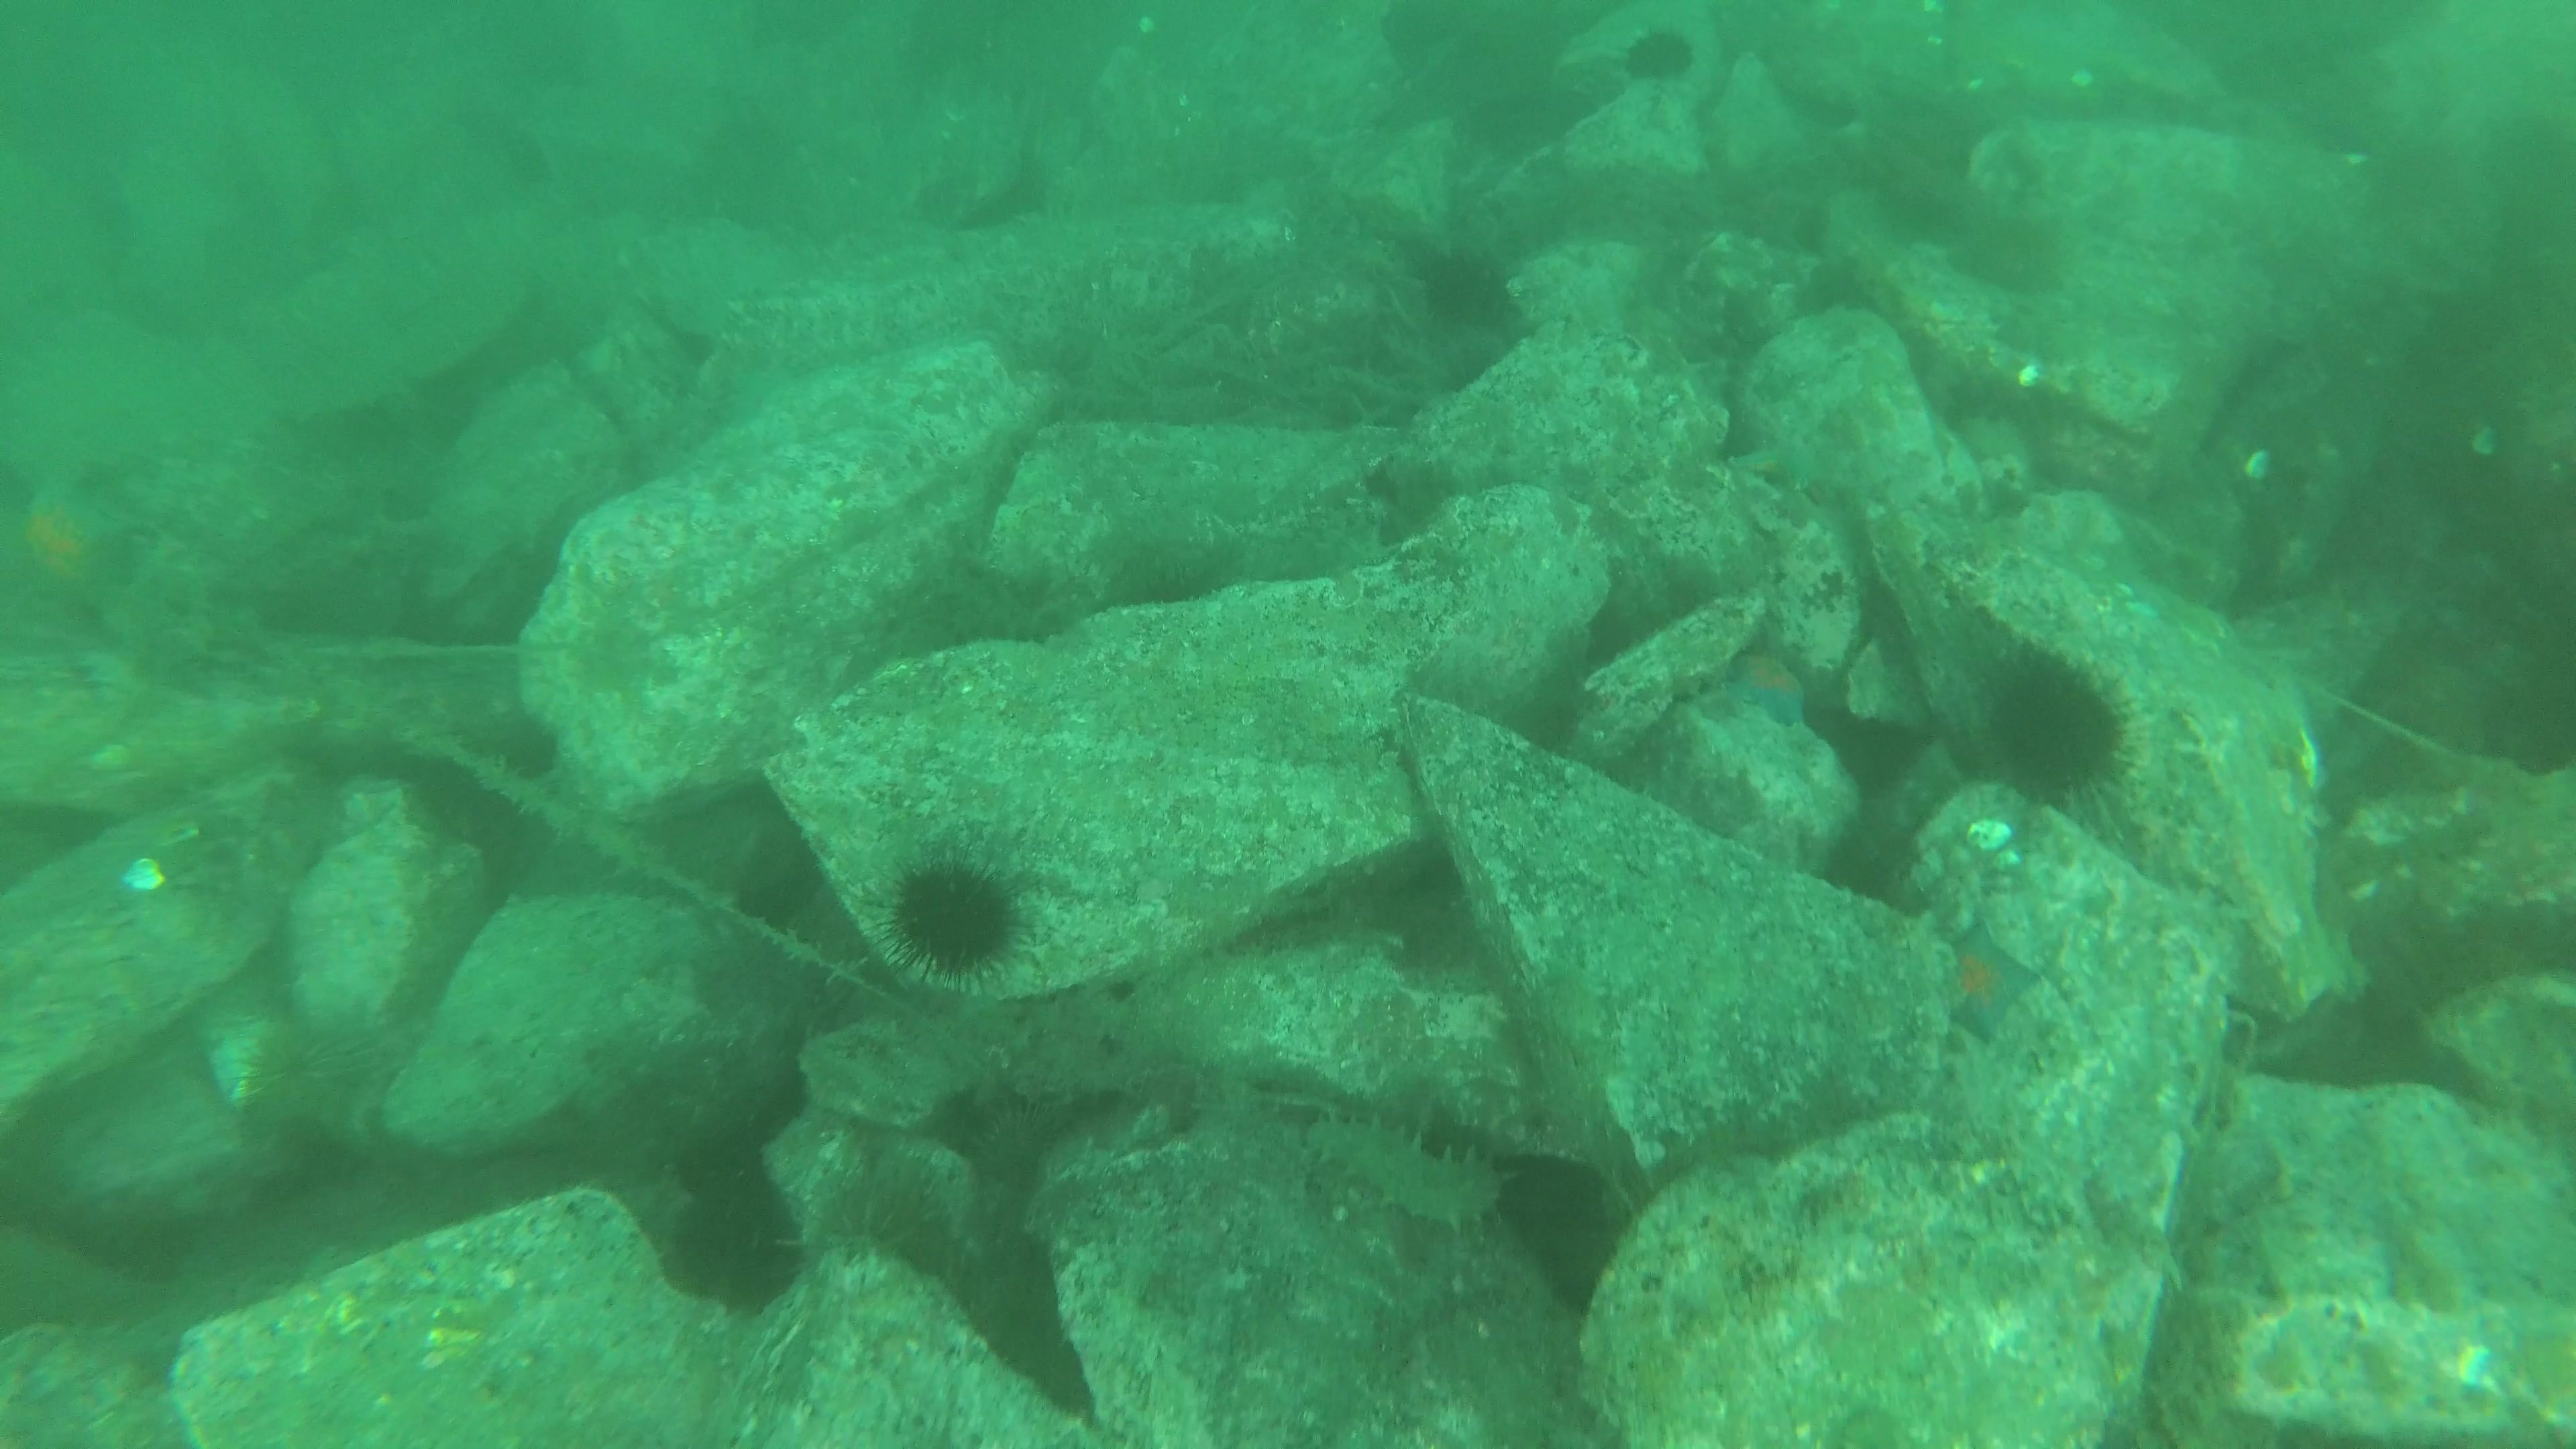echinus: (1974, 648, 2135, 809), (655, 1162, 809, 1315), (881, 849, 1031, 984), (821, 1155, 966, 1290), (1944, 202, 2072, 301), (1408, 239, 1522, 338), (487, 704, 571, 787), (1615, 21, 1702, 90)
holothurian: (1297, 1108, 1509, 1238)
starfish: (4, 469, 138, 635), (1930, 911, 2043, 1047), (1707, 630, 1826, 736)
